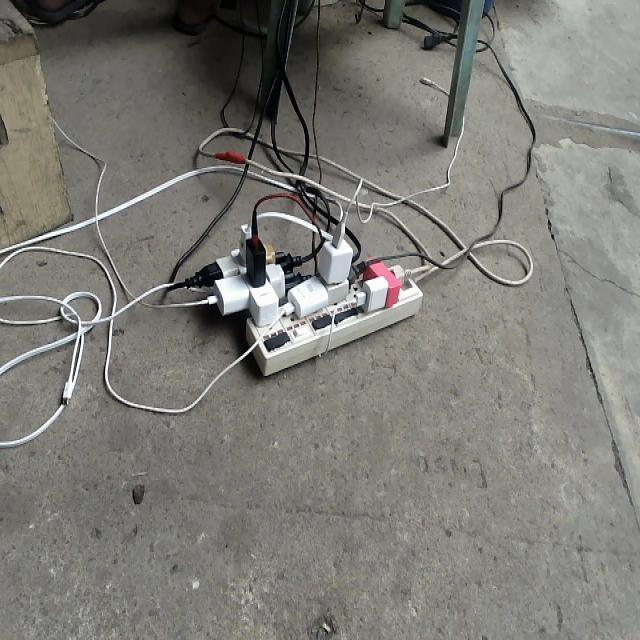-: (198, 213, 422, 379)
